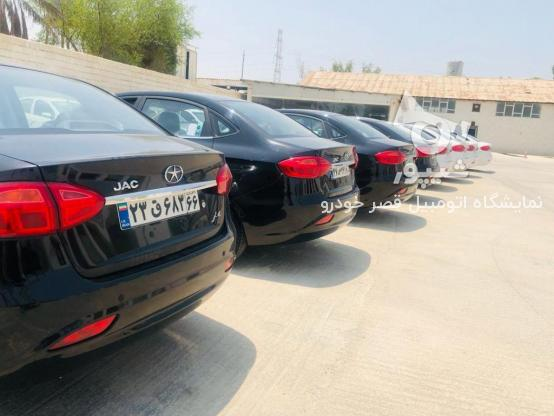car: (117, 189, 200, 231), (329, 162, 353, 181)
